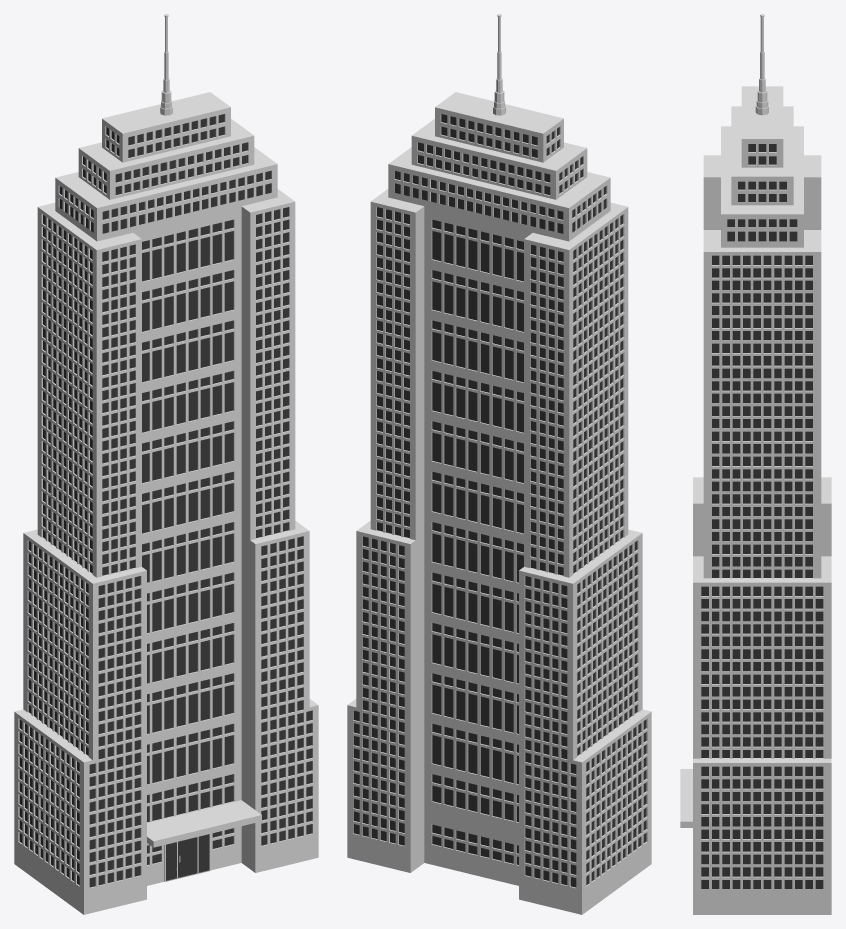
File: SPW_Urban_Bldg_07.gltf
The picture shows the model from 3 angles, left to right: view 1: azimuth 30°, elevation 25°; view 2: azimuth 150°, elevation 25°; view 3: azimuth 270°, elevation 25°; orthographic projection.
Visible parts, largest first — view 1: SPW_Urban_Bldg_07; view 2: SPW_Urban_Bldg_07; view 3: SPW_Urban_Bldg_07.
Part boxes in pixels (x1,y1,x2,y2): SPW_Urban_Bldg_07: [14, 14, 318, 914]; SPW_Urban_Bldg_07: [347, 14, 651, 914]; SPW_Urban_Bldg_07: [680, 14, 831, 914].
Size of the model in its own units: 768 by 2642 by 430.
1 material, 1 textured.
